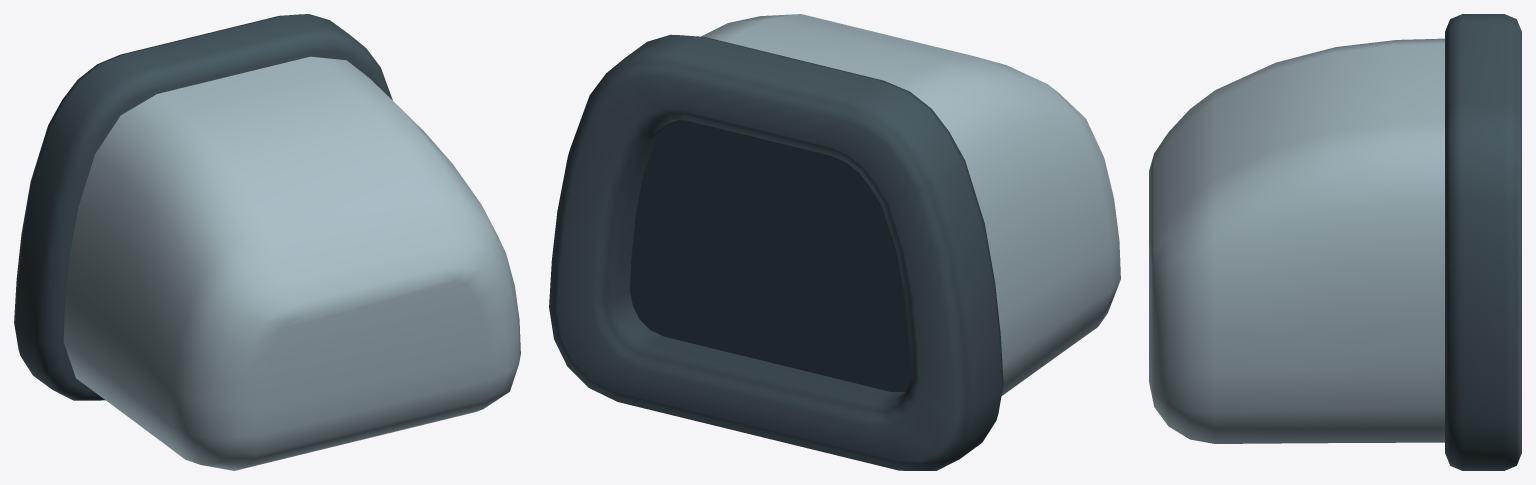
The model's file is spawner 1.fbx.
3 views of the same model, side by side, from view 1: azimuth 30°, elevation 25°; view 2: azimuth 150°, elevation 25°; view 3: azimuth 270°, elevation 25° (orthographic). The views are drawn at different scales.
Parts seen in each view (by area): view 1: spawner; view 2: spawner; view 3: spawner.
Boxes of the visible parts, x1=… form: spawner: x1=14, y1=14, x2=520, y2=470; spawner: x1=549, y1=14, x2=1120, y2=470; spawner: x1=1149, y1=14, x2=1521, y2=470.
Size of the model in its own units: 102 by 82.36 by 82.6.
